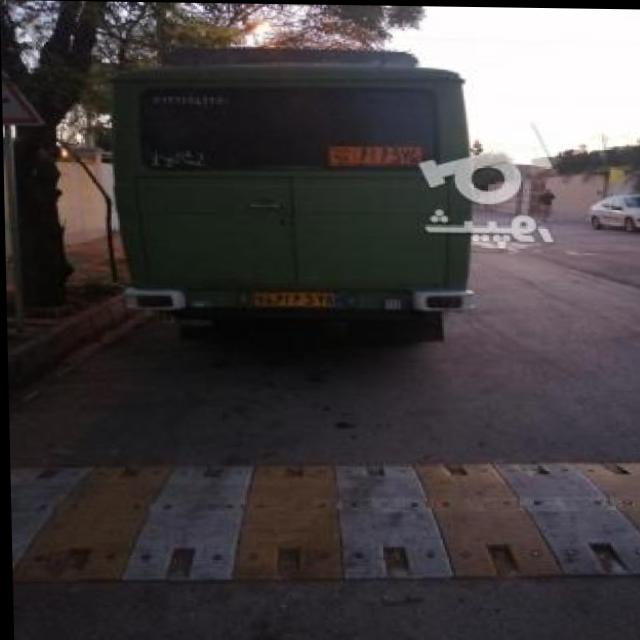licence: (253, 287, 338, 302)
